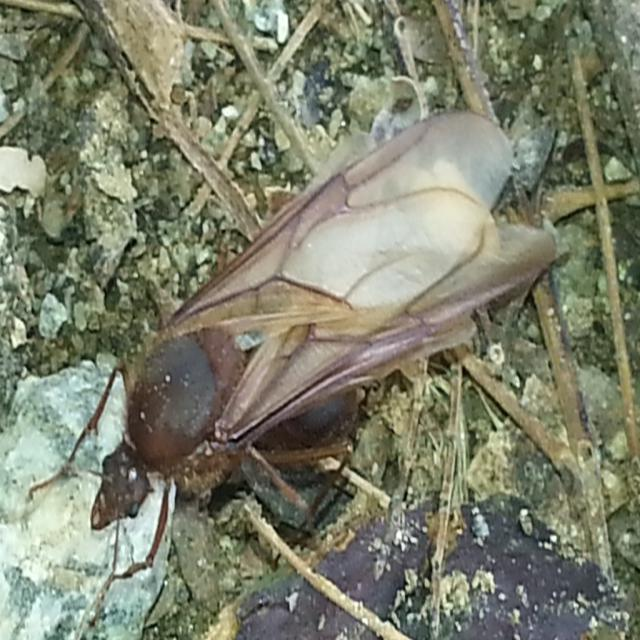Alive-Male-Alate: (29, 108, 556, 629)
